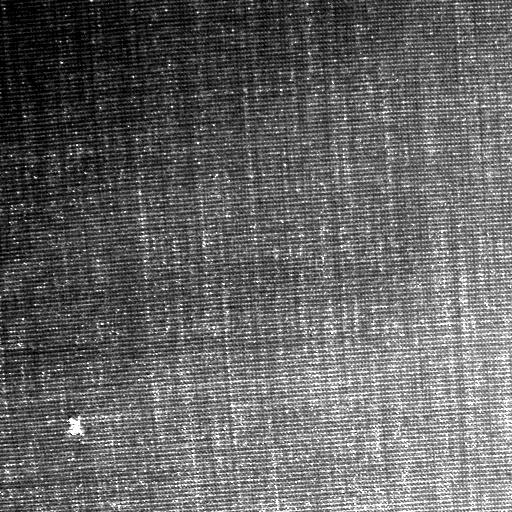fabric_hole: (58, 412, 94, 444)
